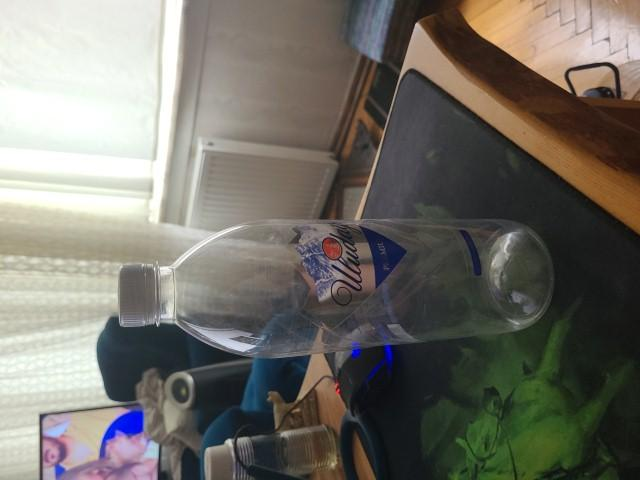plastic_bottle: (165, 88, 350, 416), (0, 153, 74, 254)
